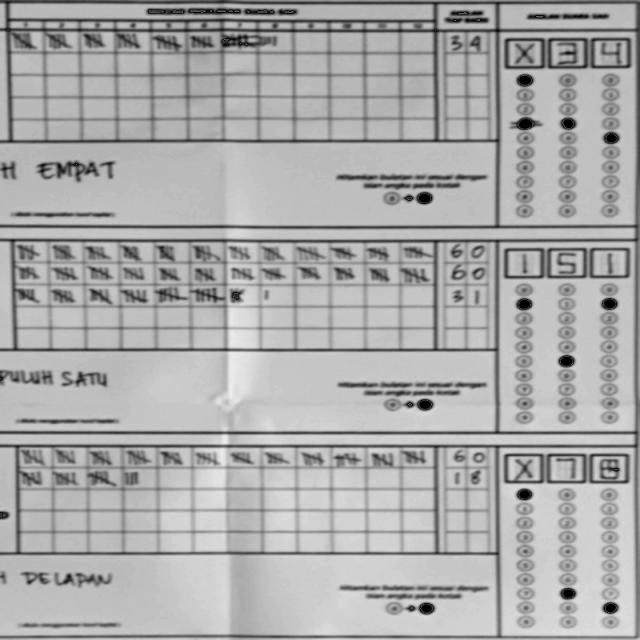Suara: (502, 446, 630, 486), (499, 32, 630, 70), (502, 243, 630, 280)
